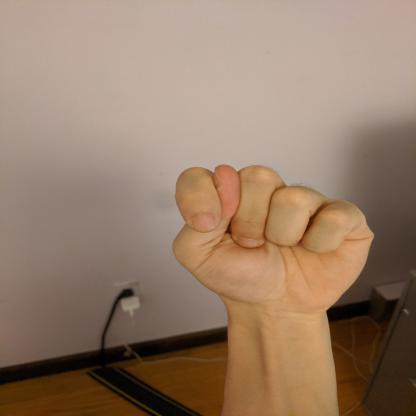T: (165, 157, 380, 318)
